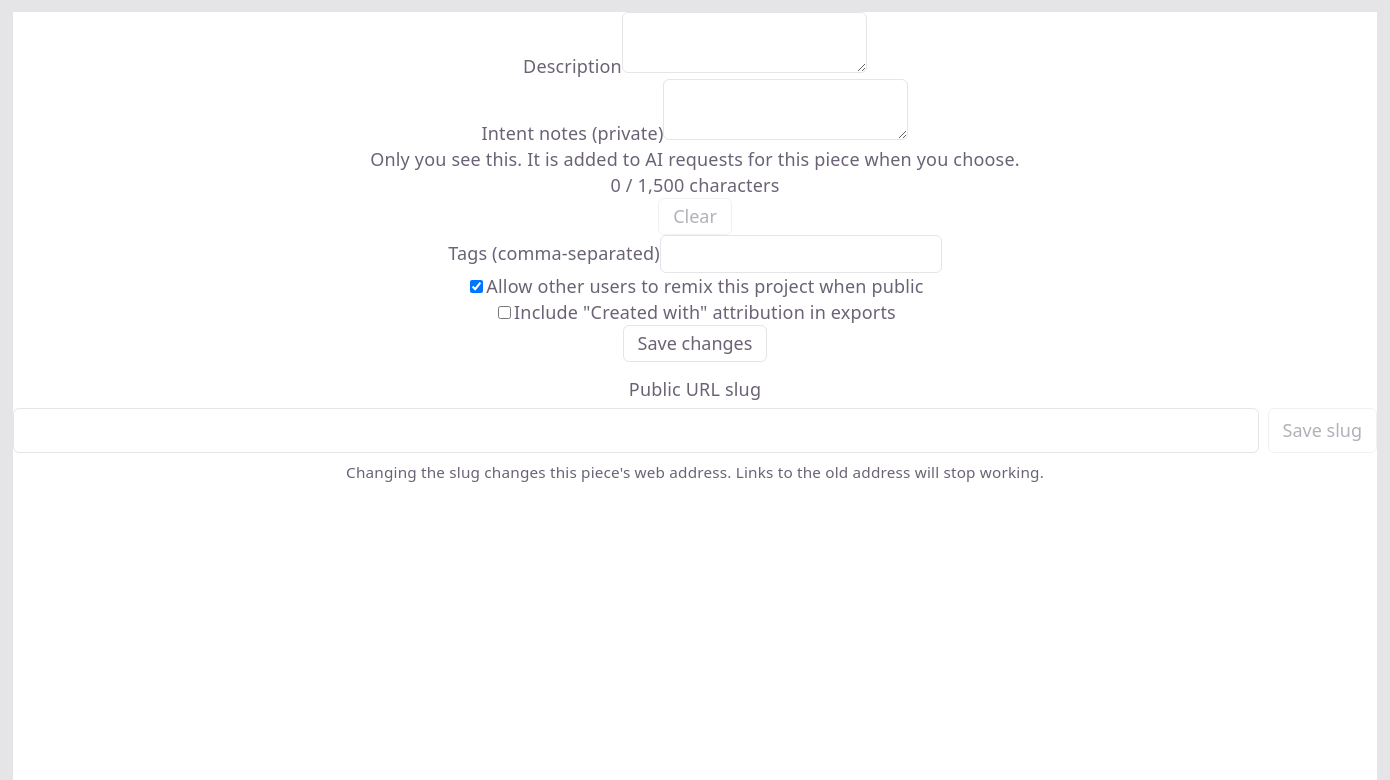
Test: EditorDetailsPanel › toggles the remix setting and saves it via the plain metadata PATCH
Click the checkbox labelled "Allow other users to remix this project when public" at (477, 286), box [470,280,483,293]
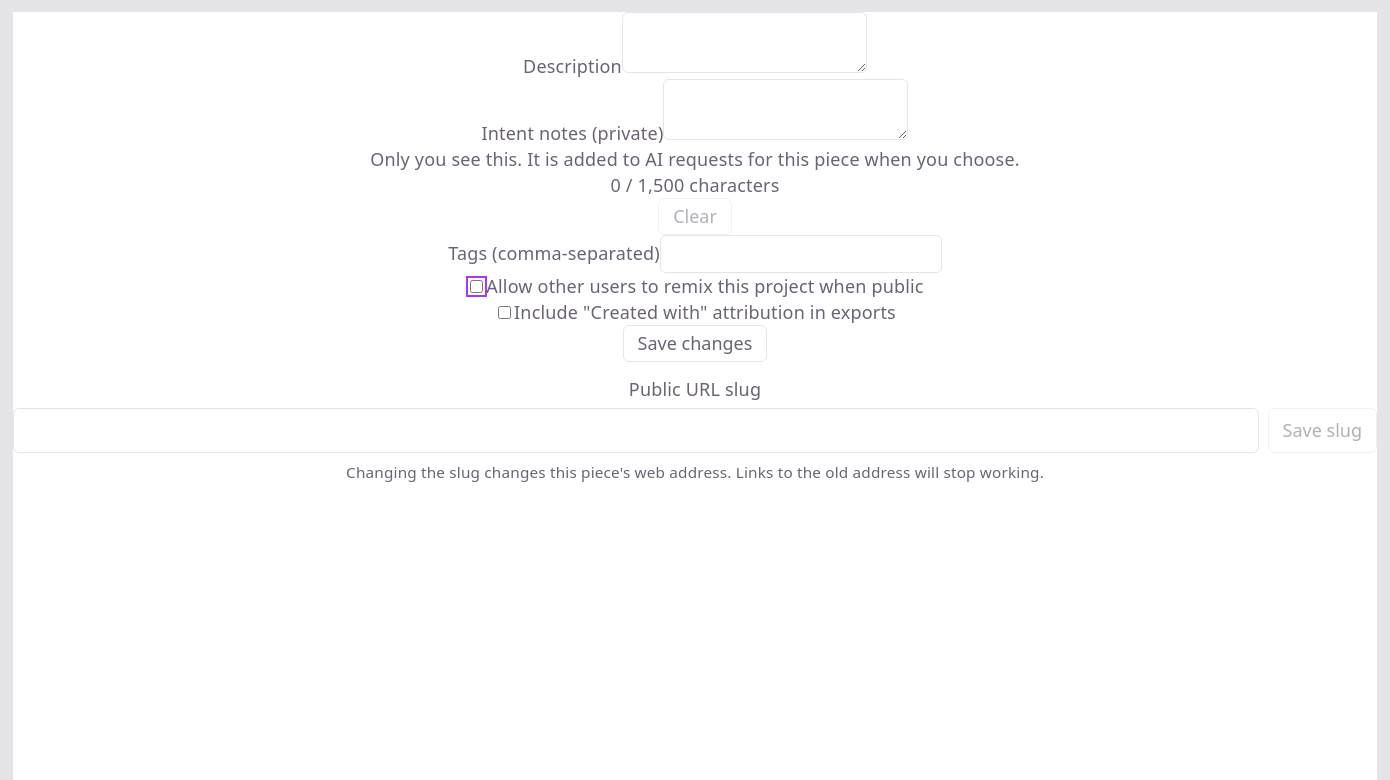
Check: the checkbox labelled "Allow other users to remix this project when public" is not checked, box [470,280,483,293]
Click the button "Save changes" at (695, 344), box [623,325,767,362]
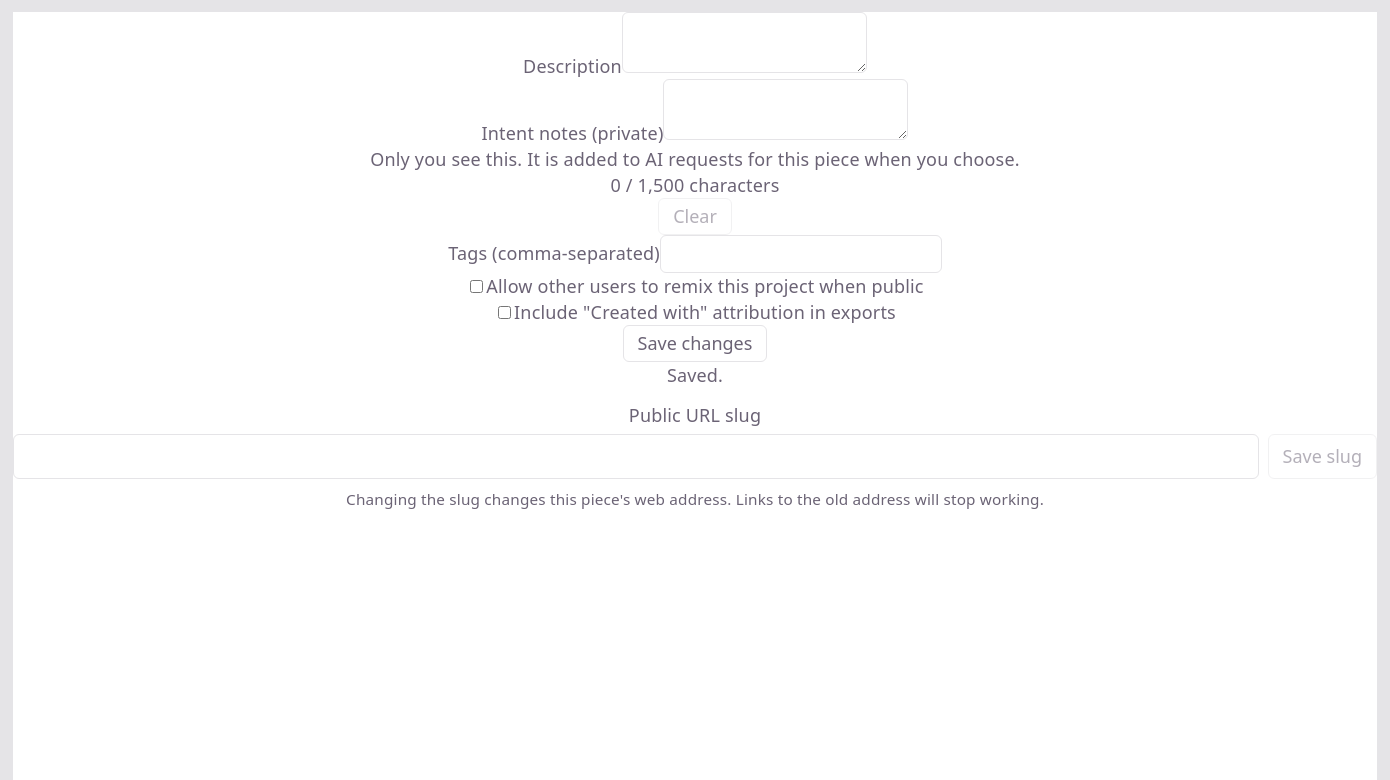
Check: the message shows "Saved", box [667,363,723,387]
